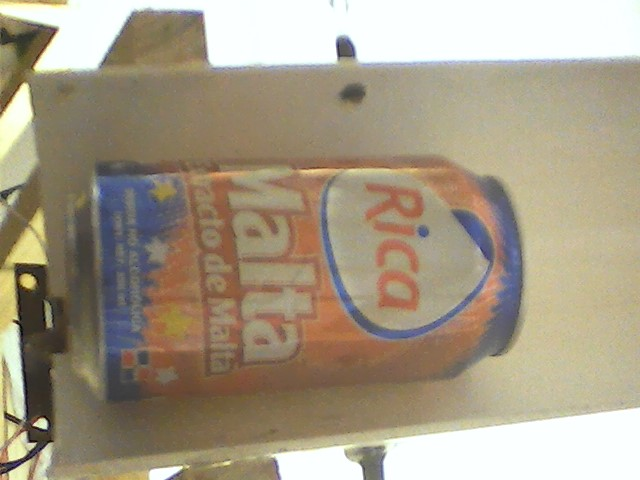lata: (59, 152, 539, 410)
